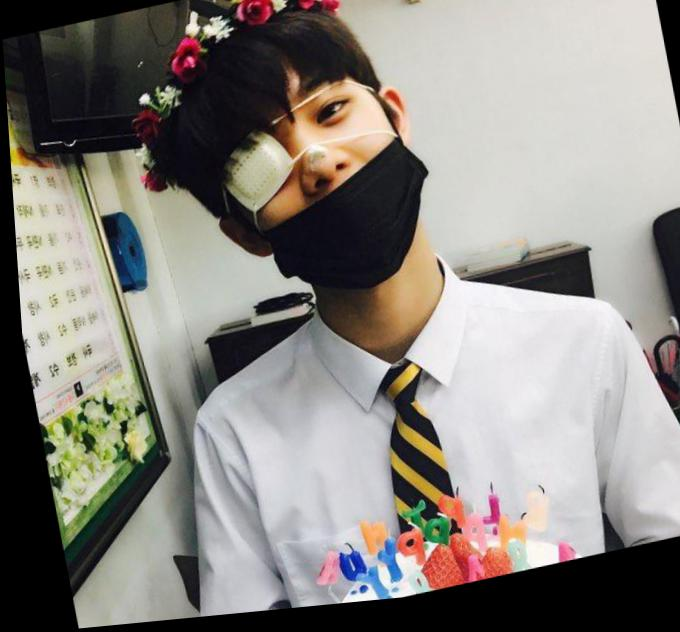WRONG: (199, 69, 430, 314)
